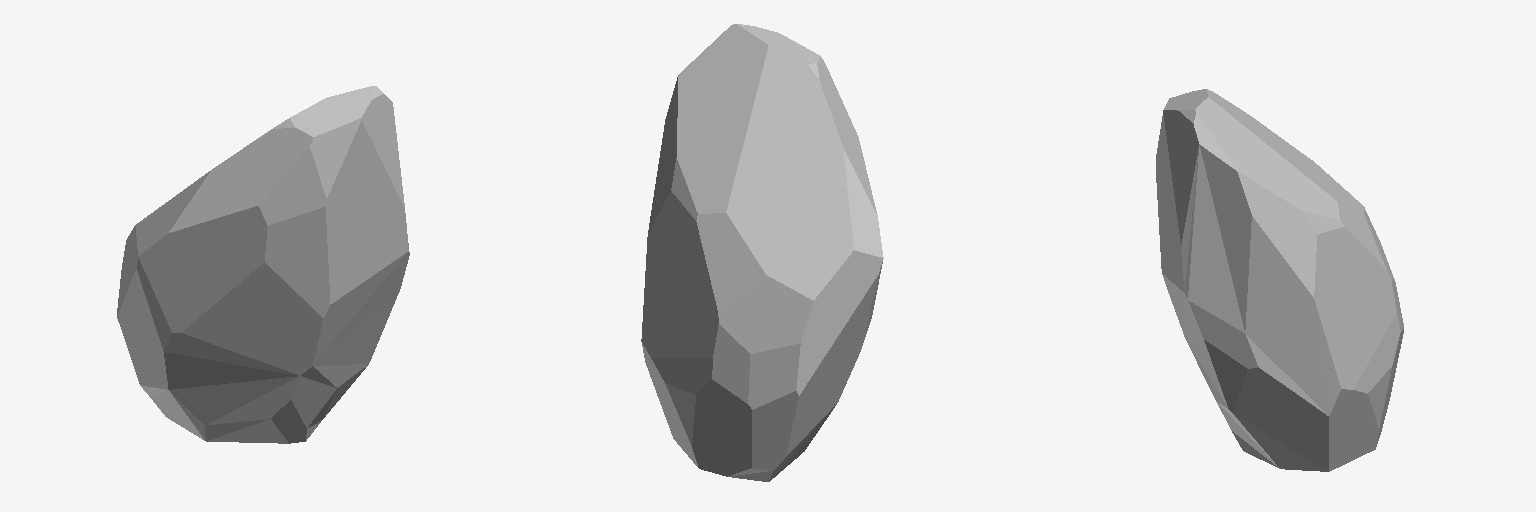
Rendered from heiRock3.obj.
The picture shows the model from 3 angles: view 1: azimuth 30°, elevation 25°; view 2: azimuth 150°, elevation 25°; view 3: azimuth 270°, elevation 25°; orthographic projection.
Visible parts, largest first — view 1: Sphere_003; view 2: Sphere_003; view 3: Sphere_003.
Part boxes in pixels (left/top/right/bottom): Sphere_003: left=117, top=86, right=409, bottom=443; Sphere_003: left=641, top=24, right=883, bottom=481; Sphere_003: left=1156, top=89, right=1403, bottom=471.
Bounding box in the file's own units: 70.83 × 106 × 65.39.